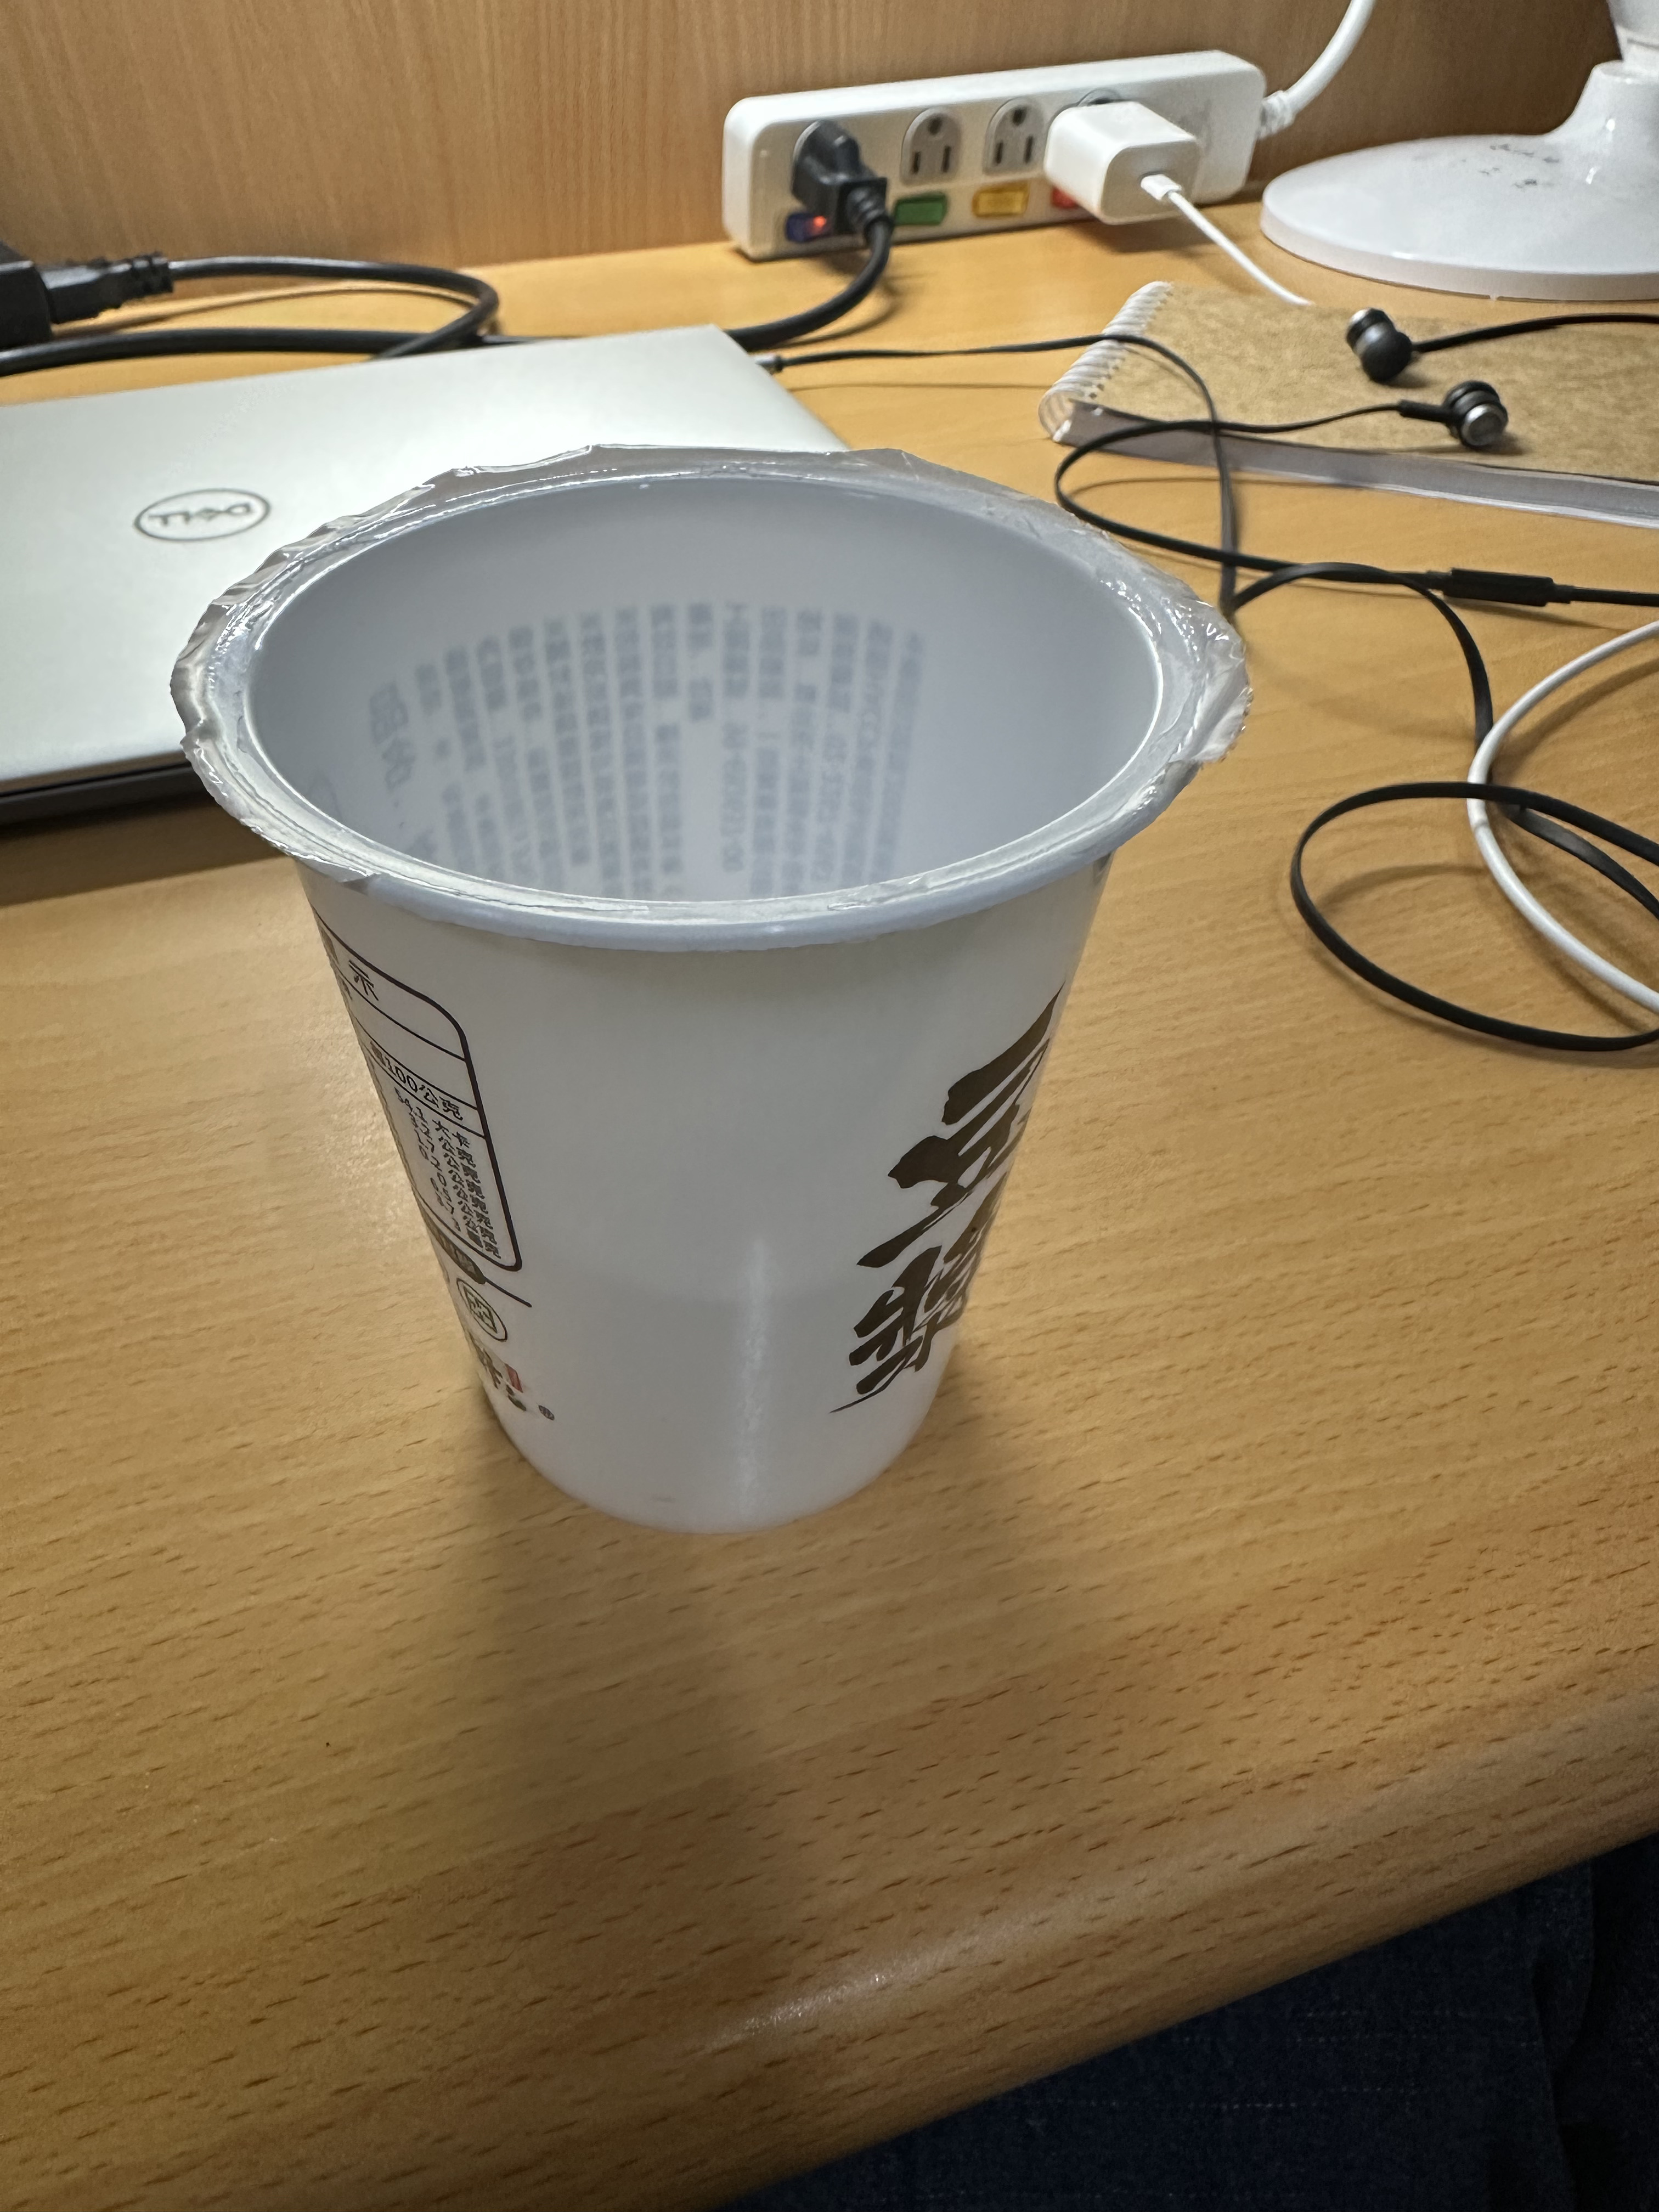cup: (169, 446, 1258, 1541)
